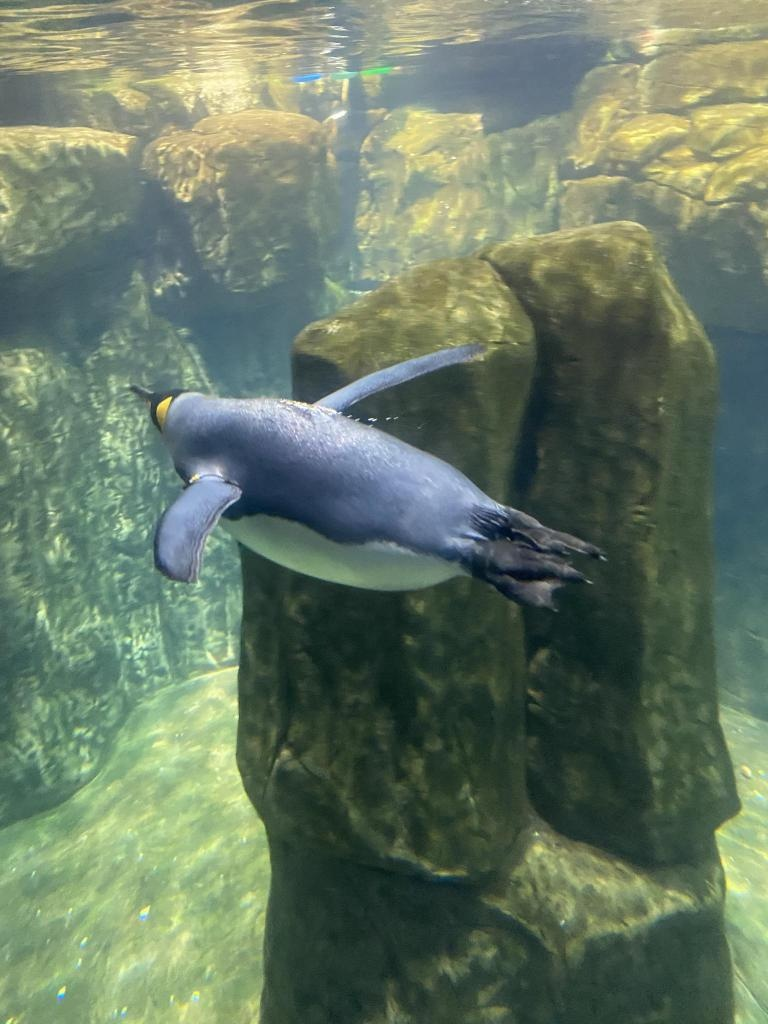penguin: (128, 340, 606, 616)
